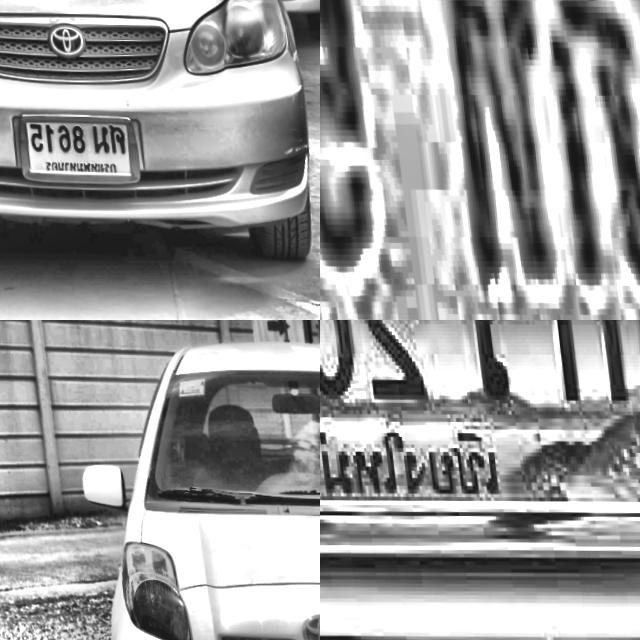license-plate: (320, 0, 640, 320), (320, 320, 640, 562), (4, 108, 129, 183)
